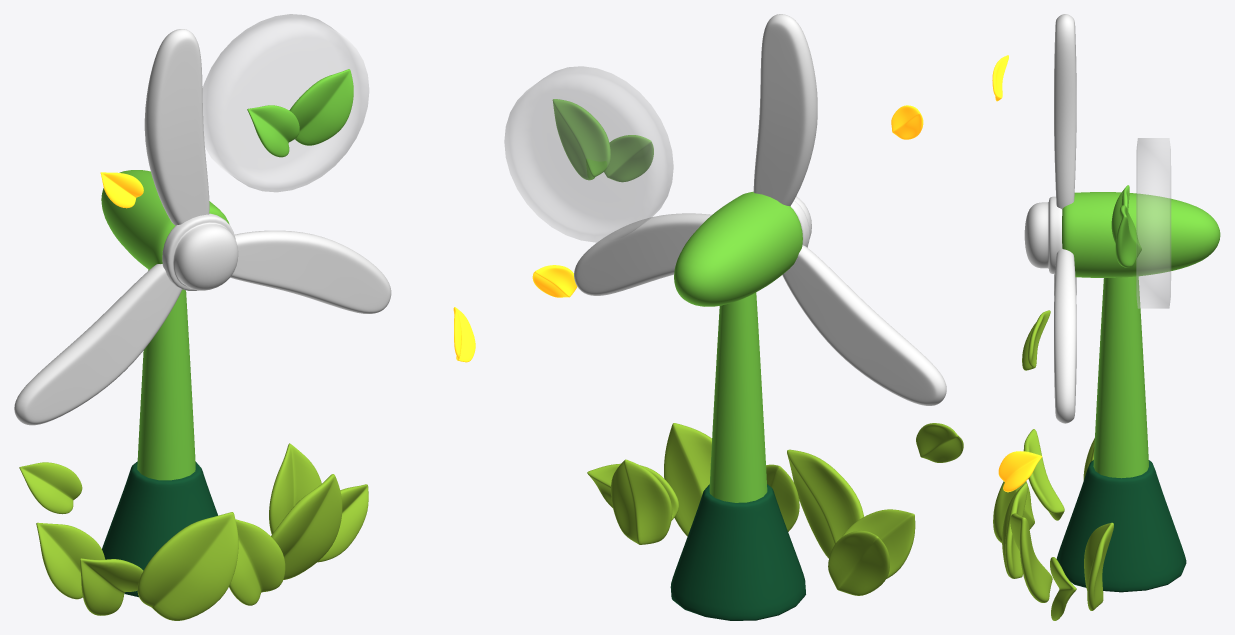
File: windmill.glb
The picture shows the model from 3 angles, left to right: view 1: azimuth 30°, elevation 25°; view 2: azimuth 150°, elevation 25°; view 3: azimuth 270°, elevation 25°; orthographic projection. The views are drawn at different scales.
Visible parts, largest first — view 1: Cube.067, Cube.068, Circle.015, Cube.045, Cube.065, Cube.066, Cube.069, Cube.070; view 2: Cube.068, Cube.067, Circle.015, Cube.065, Cube.070, Cube.045, Cube.066; view 3: Cube.065, Cube.067, Cube.070, Cube.045, Cube.068, Circle.015, Cube.069, Cube.066.
Part boxes in pixels (x1=…): Cube.067: x1=19, y1=172, x2=475, y2=620; Cube.068: x1=14, y1=29, x2=391, y2=425; Circle.015: x1=203, y1=14, x2=368, y2=191; Cube.045: x1=137, y1=269, x2=195, y2=480; Cube.065: x1=102, y1=461, x2=217, y2=597; Cube.066: x1=247, y1=69, x2=353, y2=157; Cube.069: x1=162, y1=213, x2=238, y2=290; Cube.070: x1=101, y1=170, x2=229, y2=269; Cube.068: x1=574, y1=14, x2=946, y2=405; Cube.067: x1=532, y1=105, x2=963, y2=595; Circle.015: x1=504, y1=66, x2=673, y2=242; Cube.065: x1=670, y1=484, x2=805, y2=620; Cube.070: x1=674, y1=191, x2=802, y2=306; Cube.045: x1=709, y1=292, x2=767, y2=502; Cube.066: x1=552, y1=99, x2=653, y2=182; Cube.065: x1=1056, y1=460, x2=1186, y2=592; Cube.067: x1=992, y1=55, x2=1113, y2=620; Cube.070: x1=1062, y1=192, x2=1220, y2=277; Cube.045: x1=1093, y1=276, x2=1148, y2=478; Cube.068: x1=1054, y1=14, x2=1076, y2=423; Circle.015: x1=1136, y1=138, x2=1170, y2=308; Cube.069: x1=1024, y1=196, x2=1062, y2=274; Cube.066: x1=1111, y1=185, x2=1141, y2=267.
Bounding box in the file's own units: 3.56 × 4.39 × 1.67.
